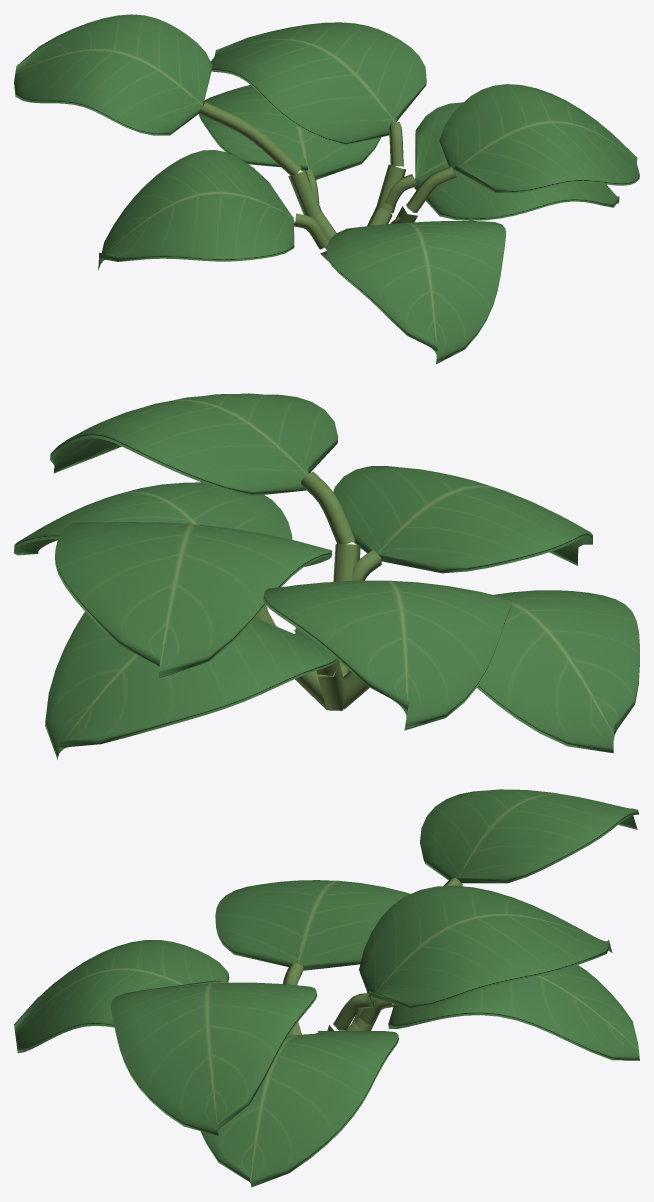
Rendered from peperomia-stage-2.glb.
3 views of the same model, one above another, from view 1: azimuth 30°, elevation 25°; view 2: azimuth 150°, elevation 25°; view 3: azimuth 270°, elevation 25° (orthographic). The views are drawn at different scales.
Visible parts, largest first — view 1: Leaf_5, Leaf_0, Leaf_6, Leaf_3, Leaf_4, Leaf_1, Leaf_2, PlantBranches; view 2: Leaf_5, Leaf_6, Leaf_2, Leaf_3, Leaf_4, Leaf_0, Leaf_1, PlantBranches; view 3: Leaf_4, Leaf_5, Leaf_1, Leaf_6, Leaf_3, Leaf_2, Leaf_0, PlantBranches.
Part boxes in pixels (left/top/right/bottom): Leaf_5: left=211, top=22, right=426, bottom=145; Leaf_0: left=326, top=221, right=505, bottom=364; Leaf_6: left=14, top=14, right=212, bottom=135; Leaf_3: left=98, top=150, right=294, bottom=270; Leaf_4: left=439, top=84, right=639, bottom=193; Leaf_1: left=414, top=102, right=619, bottom=220; Leaf_2: left=199, top=85, right=381, bottom=179; PlantBranches: left=199, top=102, right=456, bottom=261; Leaf_5: left=55, top=522, right=332, bottom=678; Leaf_6: left=263, top=580, right=511, bottom=730; Leaf_2: left=45, top=612, right=336, bottom=759; Leaf_3: left=477, top=590, right=639, bottom=753; Leaf_4: left=50, top=393, right=338, bottom=496; Leaf_0: left=333, top=466, right=592, bottom=573; Leaf_1: left=14, top=482, right=292, bottom=555; PlantBranches: left=255, top=471, right=381, bottom=710; Leaf_4: left=111, top=980, right=317, bottom=1135; Leaf_5: left=359, top=885, right=612, bottom=1009; Leaf_1: left=200, top=1031, right=398, bottom=1187; Leaf_6: left=420, top=789, right=638, bottom=883; Leaf_3: left=215, top=880, right=409, bottom=970; Leaf_2: left=388, top=965, right=639, bottom=1060; Leaf_0: left=14, top=940, right=229, bottom=1053; PlantBranches: left=216, top=878, right=462, bottom=1035.
Size of the model in its own units: 1.4 by 0.5521 by 1.42.
Materials: 2 (1 with a texture image).
